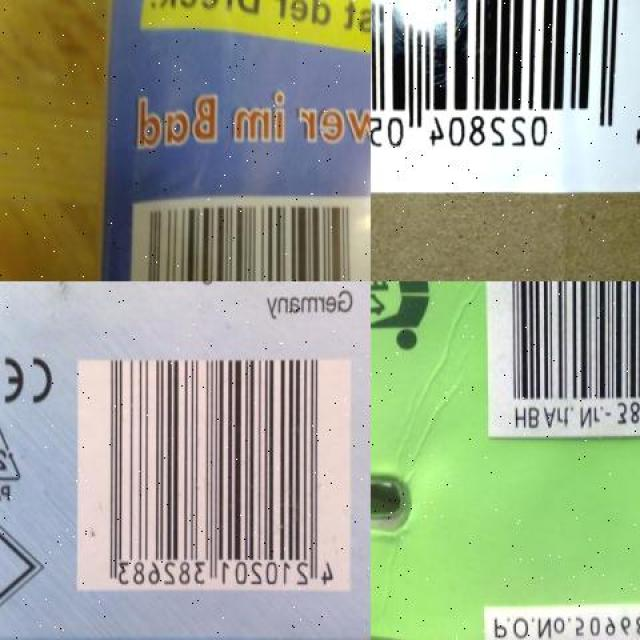Barcode: (76, 361, 352, 591), (370, 0, 640, 172), (489, 282, 640, 438), (120, 195, 371, 281)
